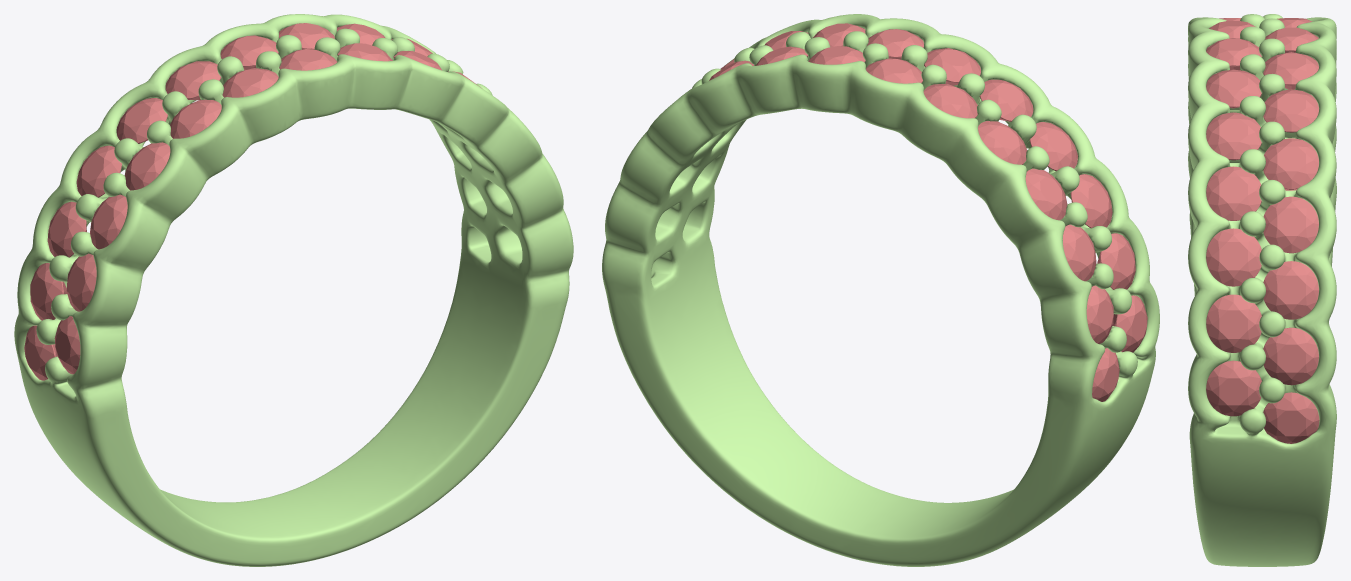
Rendered from BE2D4072LC_RENDER.glb.
The picture shows the model from 3 angles, left to right: view 1: azimuth 30°, elevation 25°; view 2: azimuth 150°, elevation 25°; view 3: azimuth 270°, elevation 25°; orthographic projection.
Parts seen in each view (by area): view 1: Metal03, Diamond_Round_Gem_BD.022, Diamond_Round_Gem_BD.016, Diamond_Round_Gem_BD.017, Diamond_Round_Gem_BD.021, Diamond_Round_Gem_BD.023, Diamond_Round_Gem_BD.015, Diamond_Round_Gem_BD.018, Diamond_Round_Gem_BD.020, Diamond_Round_Gem_BD.024, Diamond_Round_Gem_BD.014, Diamond_Round_Gem_BD.026 (+4 smaller); view 2: Metal03, Diamond_Round_Gem_BD.016, Diamond_Round_Gem_BD.017, Diamond_Round_Gem_BD.022, Diamond_Round_Gem_BD.021, Diamond_Round_Gem_BD.023, Diamond_Round_Gem_BD.015, Diamond_Round_Gem_BD.018, Diamond_Round_Gem_BD.020, Diamond_Round_Gem_BD.024, Diamond_Round_Gem_BD.014, Diamond_Round_Gem_BD.026 (+4 smaller); view 3: Metal03, Diamond_Round_Gem_BD.004, Diamond_Round_Gem_BD.009, Diamond_Round_Gem_BD.003, Diamond_Round_Gem_BD.010, Diamond_Round_Gem_BD.008, Diamond_Round_Gem_BD.012, Diamond_Round_Gem_BD.002, Diamond_Round_Gem_BD.007, Diamond_Round_Gem_BD.011, Diamond_Round_Gem_BD.001, Diamond_Round_Gem_BD.006 (+6 smaller).
Boxes of the visible parts, box(x1,y1,x2,y2) form: Metal03: box(14, 14, 573, 566); Diamond_Round_Gem_BD.022: box(76, 145, 121, 197); Diamond_Round_Gem_BD.016: box(124, 142, 170, 190); Diamond_Round_Gem_BD.017: box(90, 194, 127, 249); Diamond_Round_Gem_BD.021: box(116, 98, 167, 143); Diamond_Round_Gem_BD.023: box(47, 201, 86, 257); Diamond_Round_Gem_BD.015: box(170, 99, 221, 138); Diamond_Round_Gem_BD.018: box(66, 253, 96, 311); Diamond_Round_Gem_BD.020: box(165, 61, 221, 100); Diamond_Round_Gem_BD.024: box(30, 263, 67, 320); Diamond_Round_Gem_BD.014: box(222, 68, 278, 97); Diamond_Round_Gem_BD.026: box(54, 316, 80, 374); Metal03: box(602, 14, 1159, 566); Diamond_Round_Gem_BD.016: box(1029, 122, 1077, 171); Diamond_Round_Gem_BD.017: box(1070, 174, 1112, 228); Diamond_Round_Gem_BD.022: box(1025, 168, 1067, 220); Diamond_Round_Gem_BD.021: box(978, 121, 1026, 164); Diamond_Round_Gem_BD.023: box(1062, 224, 1096, 281); Diamond_Round_Gem_BD.015: box(979, 79, 1033, 121); Diamond_Round_Gem_BD.018: box(1097, 233, 1135, 289); Diamond_Round_Gem_BD.020: box(923, 84, 977, 118); Diamond_Round_Gem_BD.024: box(1086, 285, 1113, 343); Diamond_Round_Gem_BD.014: box(924, 48, 980, 85); Diamond_Round_Gem_BD.026: box(1112, 295, 1147, 352); Metal03: box(1188, 14, 1336, 566); Diamond_Round_Gem_BD.004: box(1206, 294, 1261, 352); Diamond_Round_Gem_BD.009: box(1263, 261, 1318, 319); Diamond_Round_Gem_BD.003: box(1206, 228, 1261, 286); Diamond_Round_Gem_BD.010: box(1263, 327, 1318, 385); Diamond_Round_Gem_BD.008: box(1263, 196, 1318, 253); Diamond_Round_Gem_BD.012: box(1206, 360, 1261, 416); Diamond_Round_Gem_BD.002: box(1206, 166, 1261, 220); Diamond_Round_Gem_BD.007: box(1263, 138, 1318, 189); Diamond_Round_Gem_BD.011: box(1263, 392, 1319, 443); Diamond_Round_Gem_BD.001: box(1206, 112, 1261, 160); Diamond_Round_Gem_BD.006: box(1263, 89, 1318, 132).
Size of the model in its own units: 20.64 by 19.87 by 5.37.
